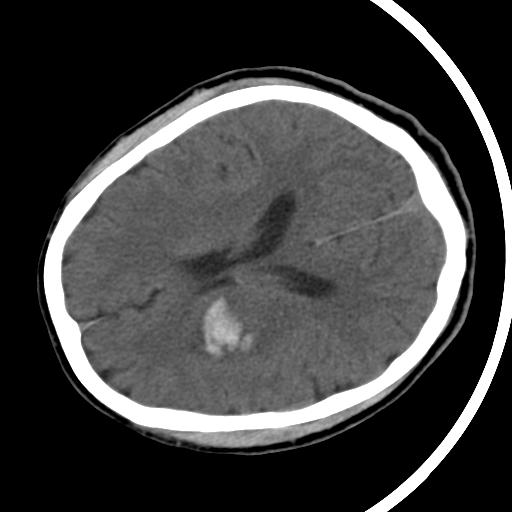a: (175, 280, 279, 370)
